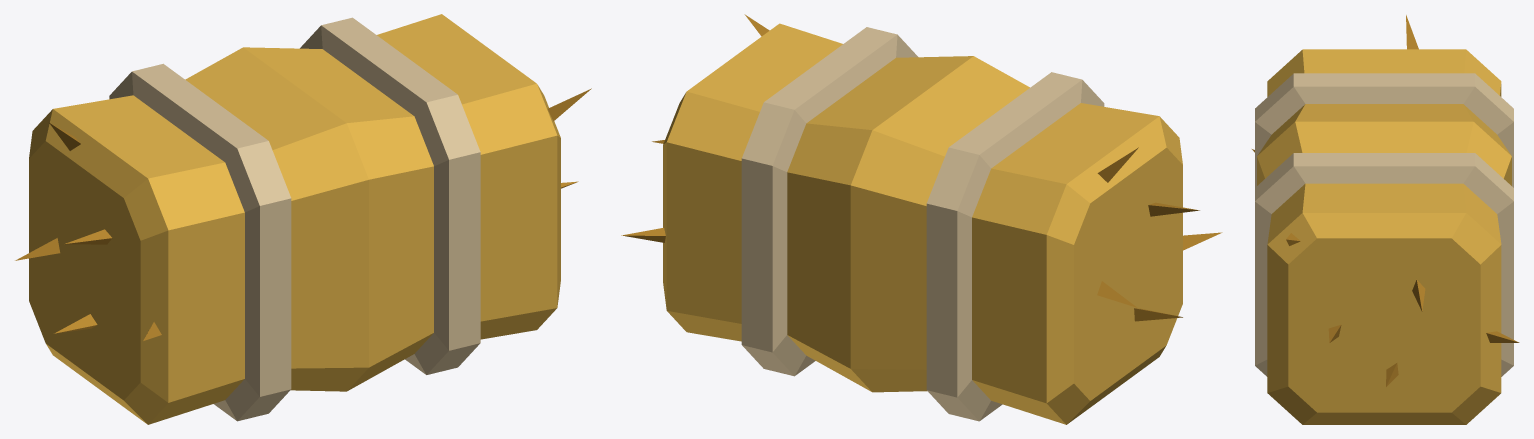
The model's file is hay-bale.glb.
3 views of the same model, side by side, from view 1: azimuth 30°, elevation 25°; view 2: azimuth 150°, elevation 25°; view 3: azimuth 270°, elevation 25° (orthographic). The views are drawn at different scales.
Parts seen in each view (by area): view 1: Hay, Rope, HayDark; view 2: Hay, Rope, HayDark; view 3: Hay, Rope, HayDark.
Part boxes in pixels (<box>): Hay: <box>29,14,560,424</box>; Rope: <box>109,17,480,421</box>; HayDark: <box>15,88,591,340</box>; Hay: <box>663,23,1182,424</box>; Rope: <box>741,27,1104,421</box>; HayDark: <box>621,14,1222,321</box>; Hay: <box>1257,49,1511,424</box>; Rope: <box>1255,73,1513,376</box>; HayDark: <box>1252,15,1519,386</box>.
Bounding box in the file's own units: 4.89 × 2.56 × 2.57.
